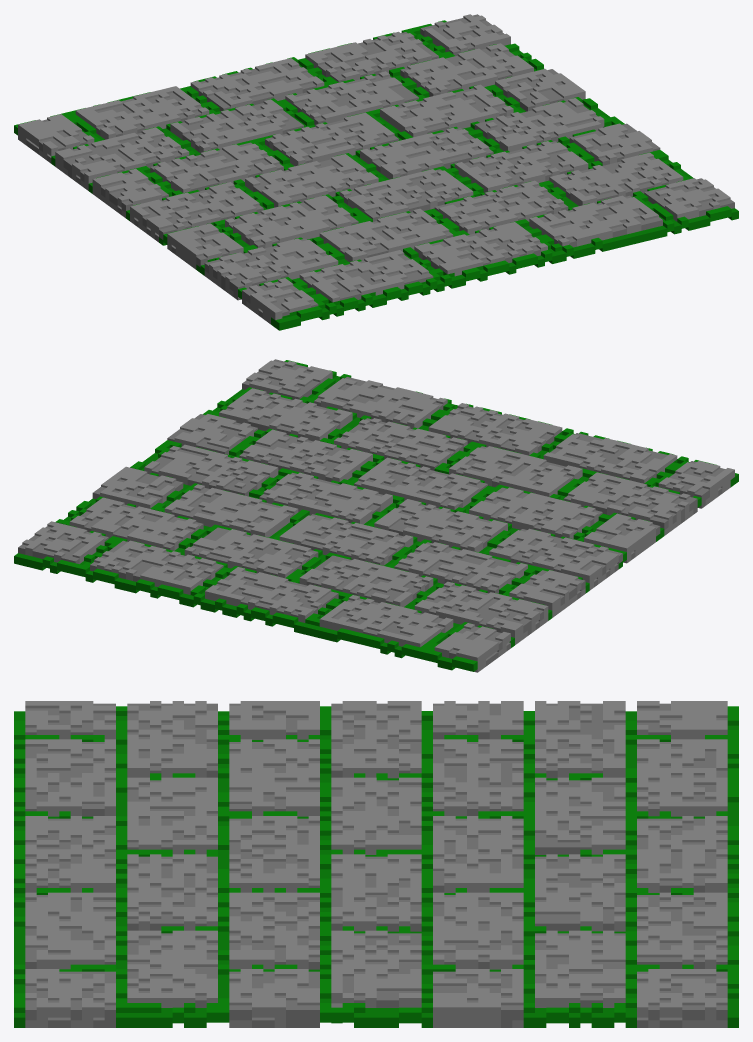
The model's file is tile.obj.
3 views of the same model, one above another, from view 1: azimuth 30°, elevation 25°; view 2: azimuth 150°, elevation 25°; view 3: azimuth 270°, elevation 25° (orthographic). The views are drawn at different scales.
Size of the model in its own units: 25.6 by 0.8 by 25.6.
1 material, 1 textured.
